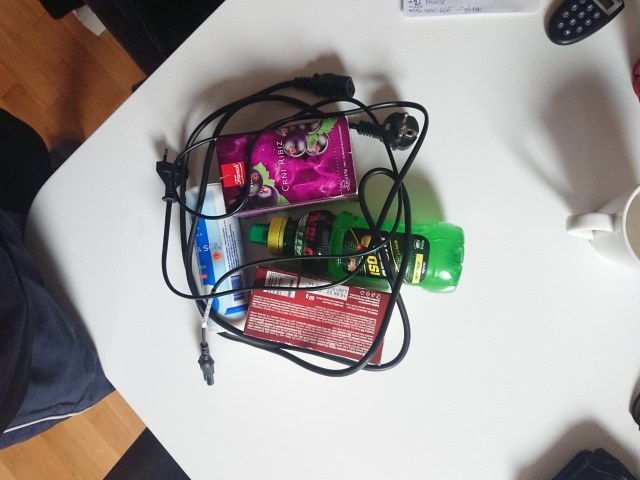Franck Apple Cinnamon Tea 60g: (240, 263, 397, 368)
Franck Black Currant Tea 60g: (211, 111, 362, 221)
Solana Pag Fine Sea Salt 250g: (182, 180, 258, 336)
Vindi Iso Sport Lemon-Grapefruit 500mL: (247, 206, 467, 297)
